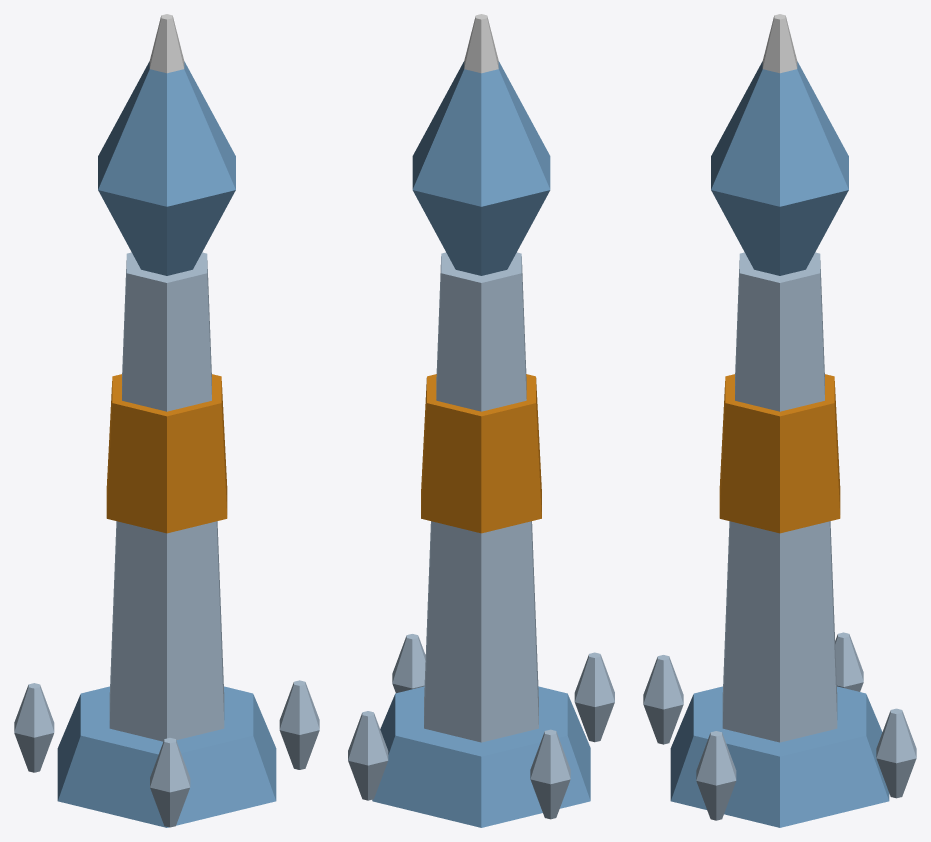
Rendered from towerB.glb.
3 renders of one model, left to right at view 1: azimuth 30°, elevation 25°; view 2: azimuth 150°, elevation 25°; view 3: azimuth 270°, elevation 25°, orthographic.
Visible parts, largest first — view 1: snowPeak-towerB; view 2: snowPeak-towerB; view 3: snowPeak-towerB.
Part boxes in pixels (box(x1,y1,x2,y2)): snowPeak-towerB: box(14, 14, 319, 827); snowPeak-towerB: box(348, 14, 614, 827); snowPeak-towerB: box(643, 14, 916, 827).
Bounding box in the file's own units: 0.421 × 1.26 × 0.4117.
